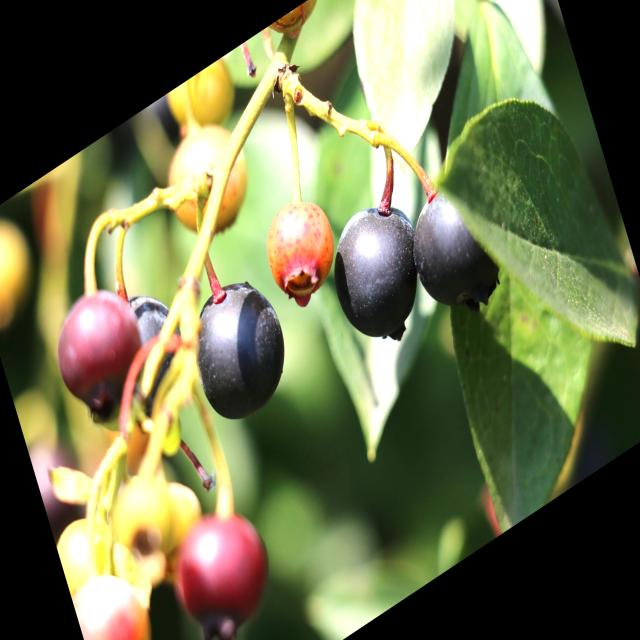blueberry: (66, 270, 196, 448), (317, 182, 437, 367), (182, 259, 300, 439), (398, 162, 513, 340)
blueberry-halfripe: (40, 264, 154, 428), (166, 484, 282, 640), (156, 107, 258, 255), (257, 186, 348, 320), (69, 549, 160, 640)
